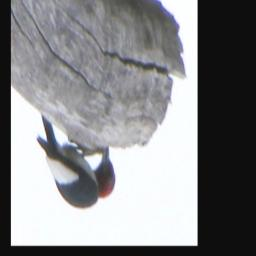Woodpecker: (33, 112, 119, 212)
